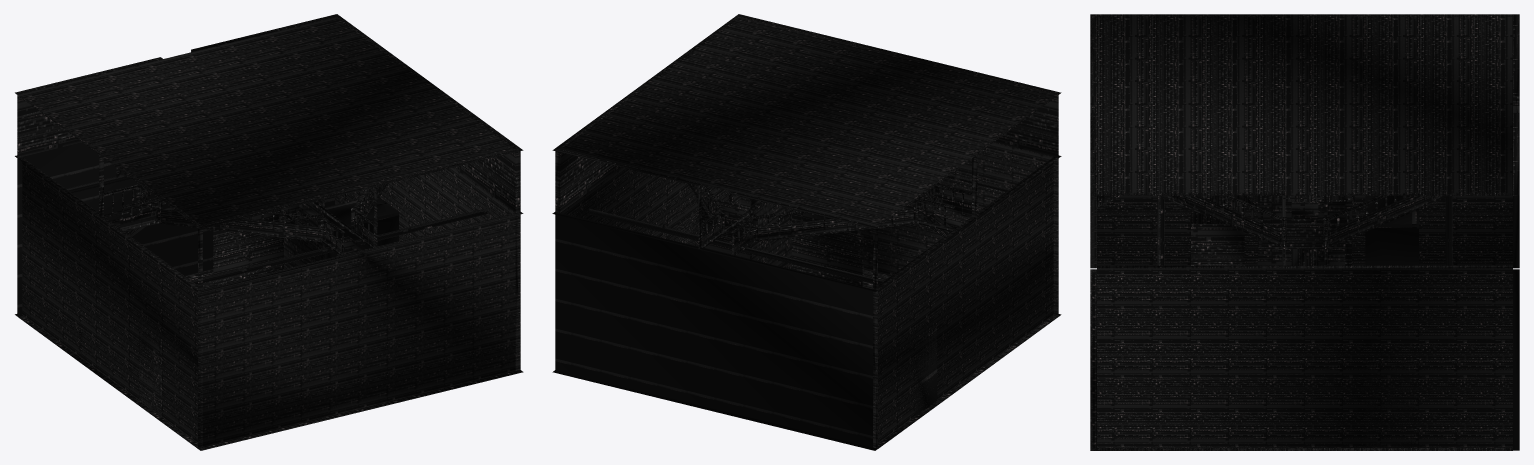
The model's file is room4pit_opt.obj.
The picture shows the model from 3 angles, left to right: view 1: azimuth 30°, elevation 25°; view 2: azimuth 150°, elevation 25°; view 3: azimuth 270°, elevation 25°; orthographic projection. The views are drawn at different scales.
Size of the model in its own units: 102 by 67.3 by 102.
Materials: 13 (13 with a texture image).
